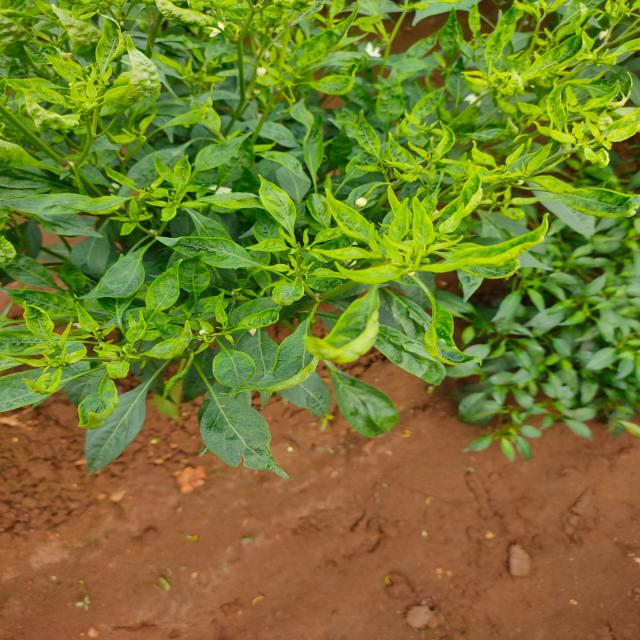Moko: (206, 131, 539, 303), (419, 0, 640, 189), (0, 288, 287, 407), (0, 0, 179, 156), (192, 0, 409, 119)
